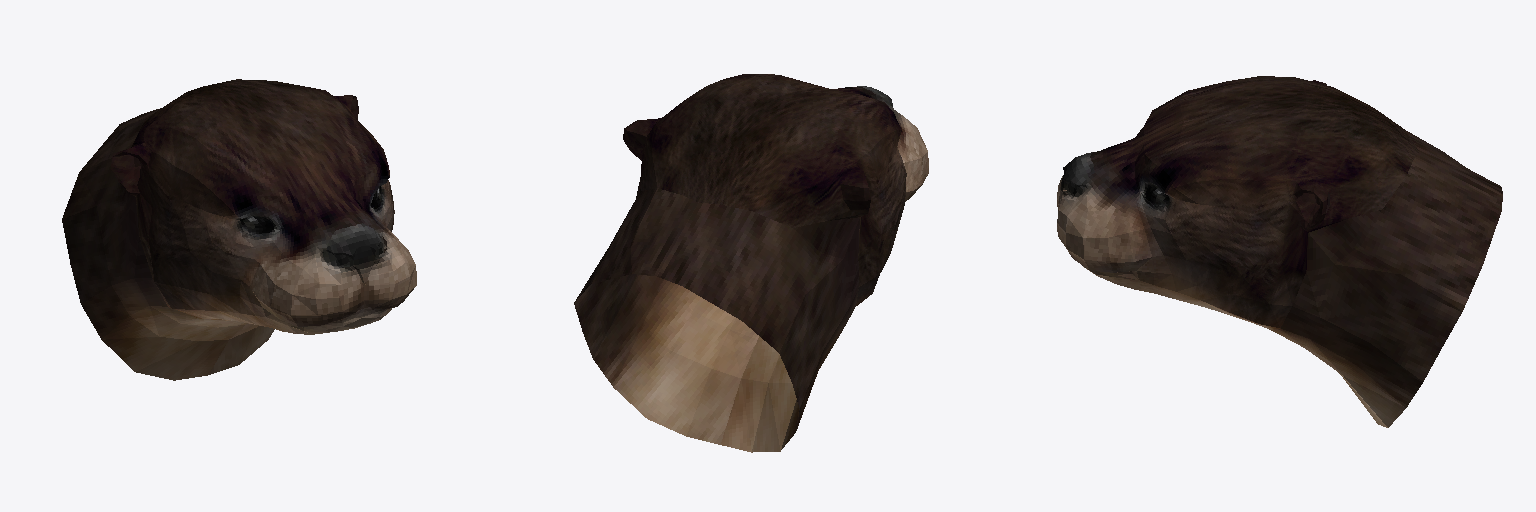
The picture shows the model from 3 angles: view 1: azimuth 30°, elevation 25°; view 2: azimuth 150°, elevation 25°; view 3: azimuth 270°, elevation 25°; orthographic projection.
Visible parts, largest first — view 1: body_Mat.1_0.001_Mat.1; view 2: body_Mat.1_0.001_Mat.1; view 3: body_Mat.1_0.001_Mat.1.
Part boxes in pixels (x1,y1,x2,y2): body_Mat.1_0.001_Mat.1: (62, 79, 416, 380); body_Mat.1_0.001_Mat.1: (574, 74, 928, 452); body_Mat.1_0.001_Mat.1: (1057, 76, 1502, 427).
Bounding box in the file's own units: 19.17 × 22.77 × 29.84.
1 materials, 1 textured.